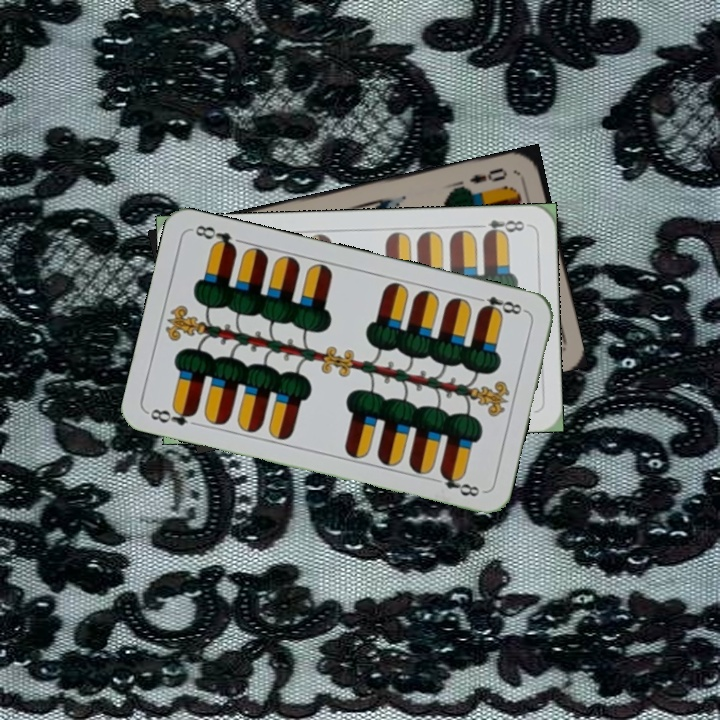E8: (470, 292, 529, 318), (144, 402, 199, 429), (471, 216, 527, 239)
EO: (466, 164, 510, 186)
